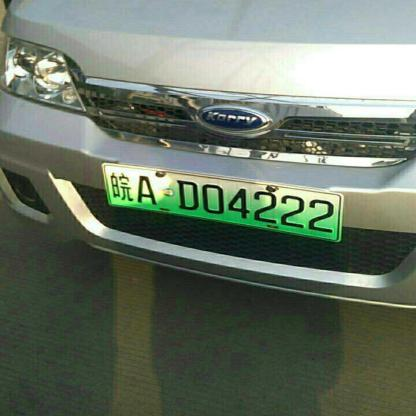lp: (104, 164, 339, 240)
